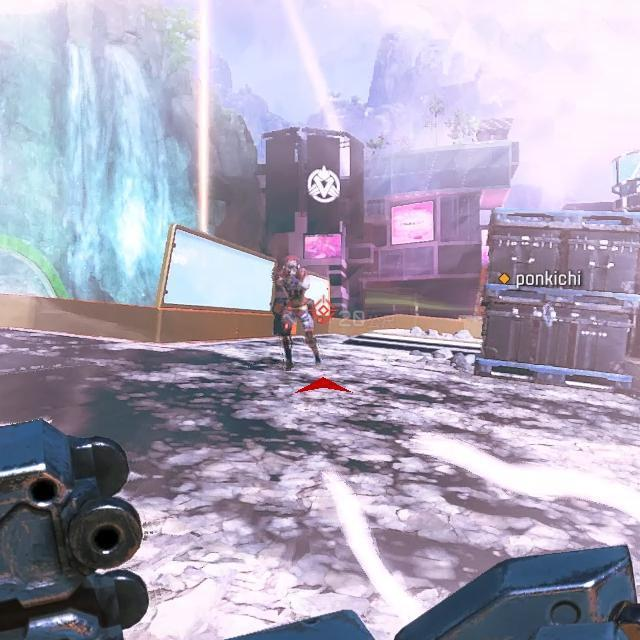avatar: (271, 254, 311, 372)
